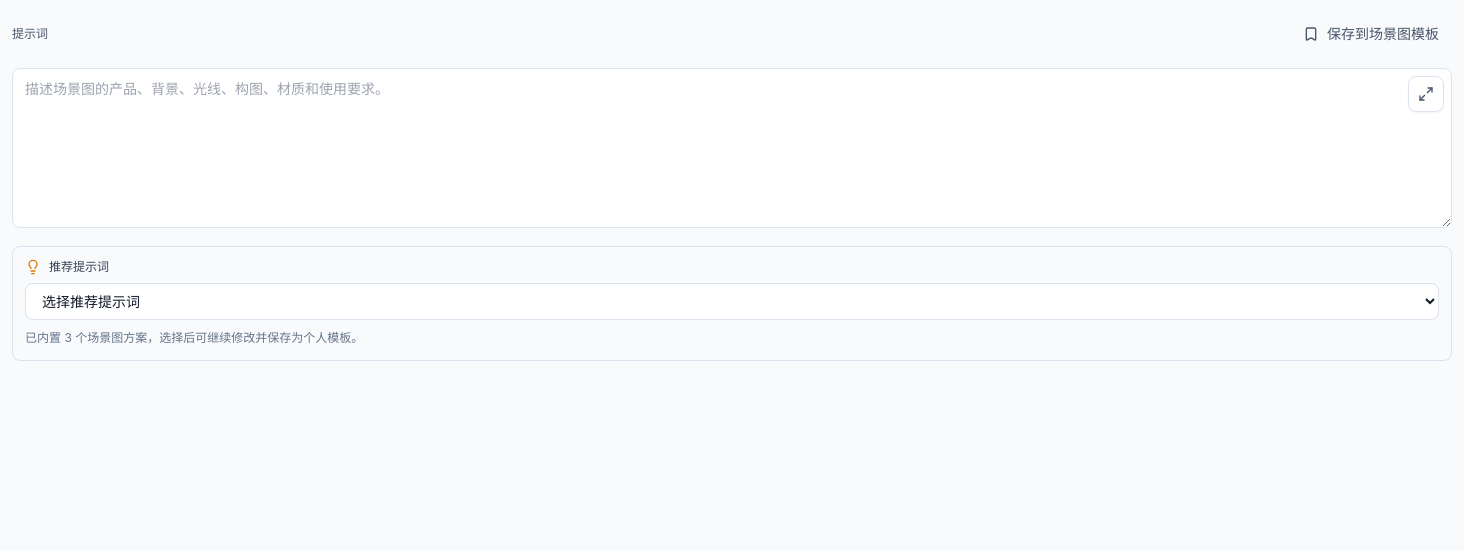
PromptEditor › updates a saved template after users edit its content
Type "Living room scene" into the text box labelled "提示词" at point(732, 148), box 12,68 -> 1452,228
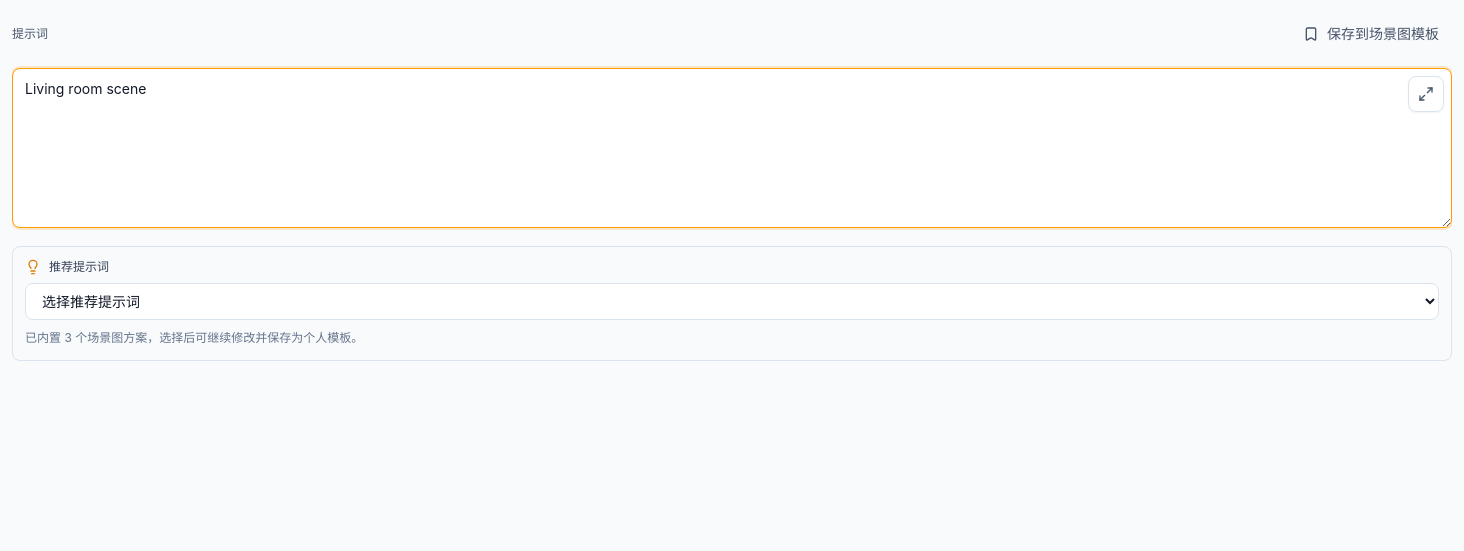
Click the button "保存到场景图模板" at point(1371, 34), box 1290,12 -> 1452,56
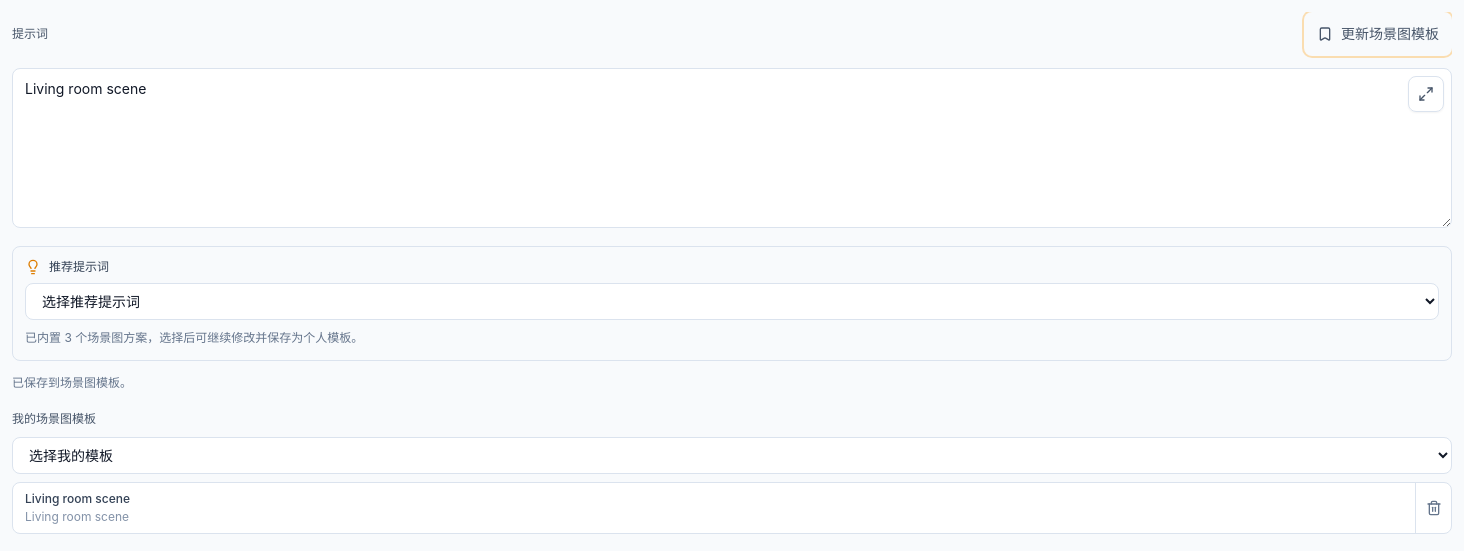
Click the button with aria-label "填入模板 Living room scene" at point(78, 498), box 13,483 -> 1415,533
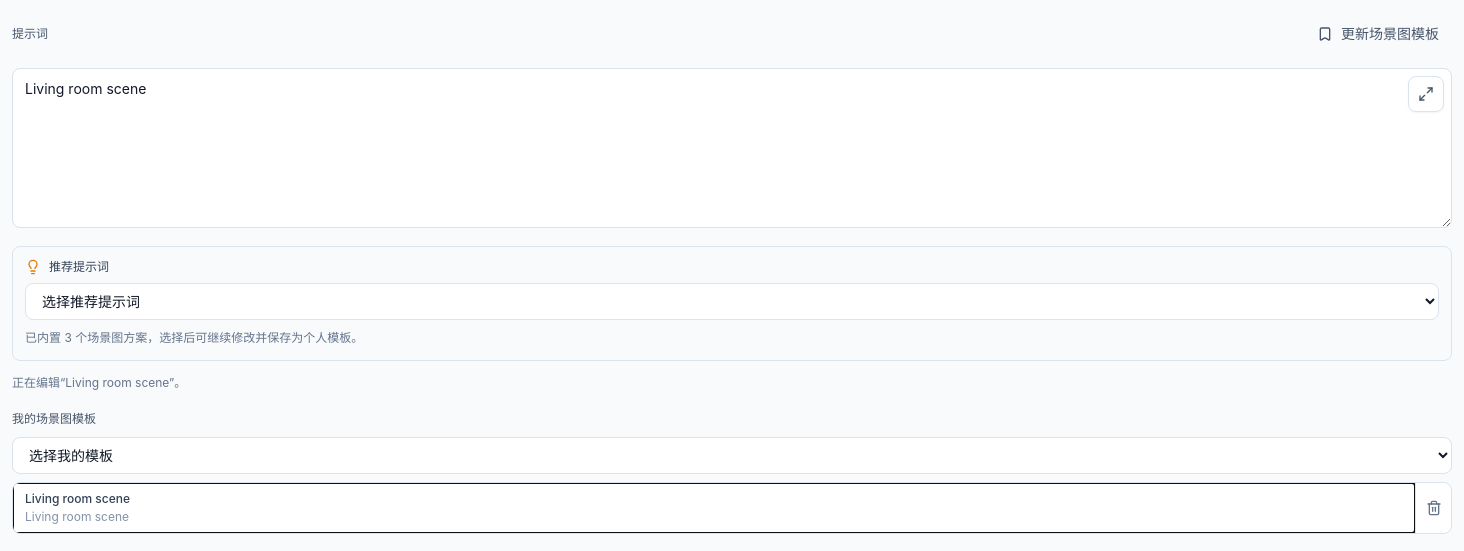
Replace the text in the text box labelled "提示词" with "Bright kitchen scene" at point(732, 148), box 12,68 -> 1452,228
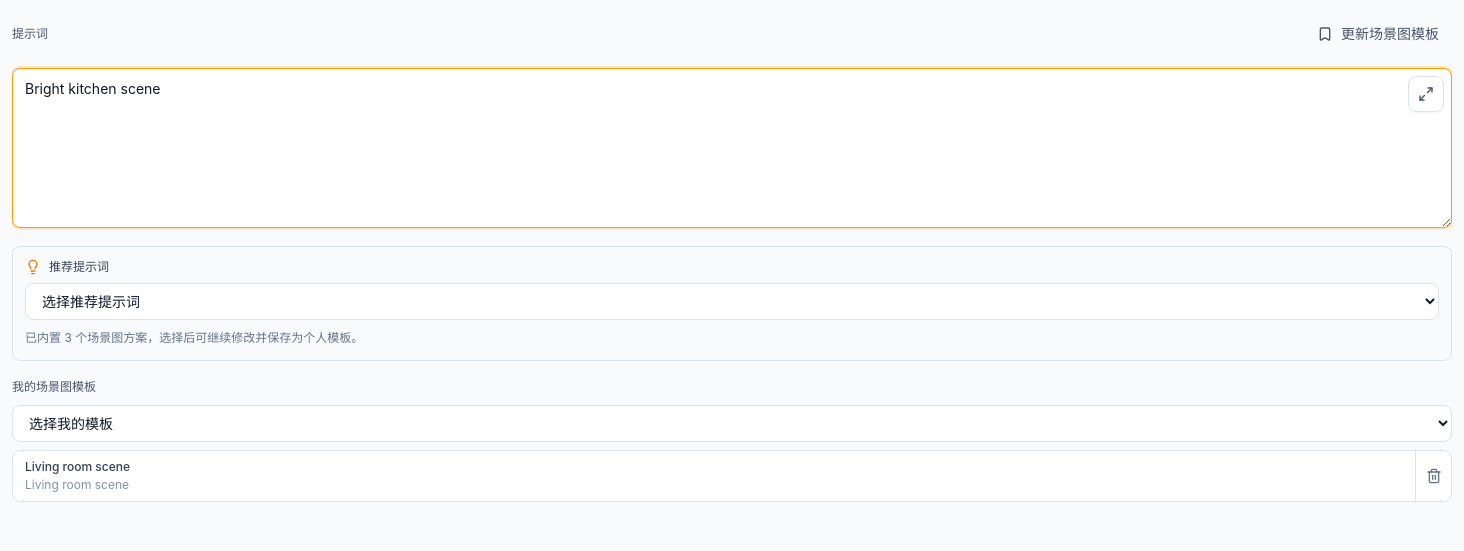
Click the button "更新场景图模板" at point(1378, 34), box 1304,12 -> 1452,56
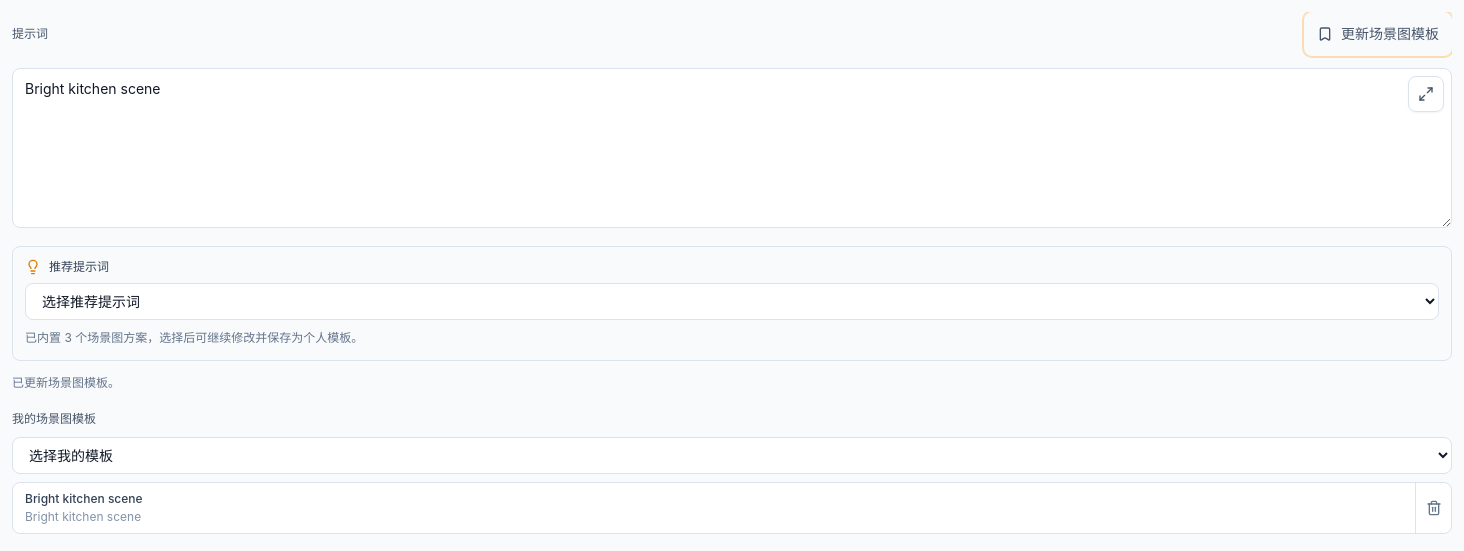
Expected: the button with aria-label "填入模板 Bright kitchen scene" is shown, 13,483 -> 1415,533
